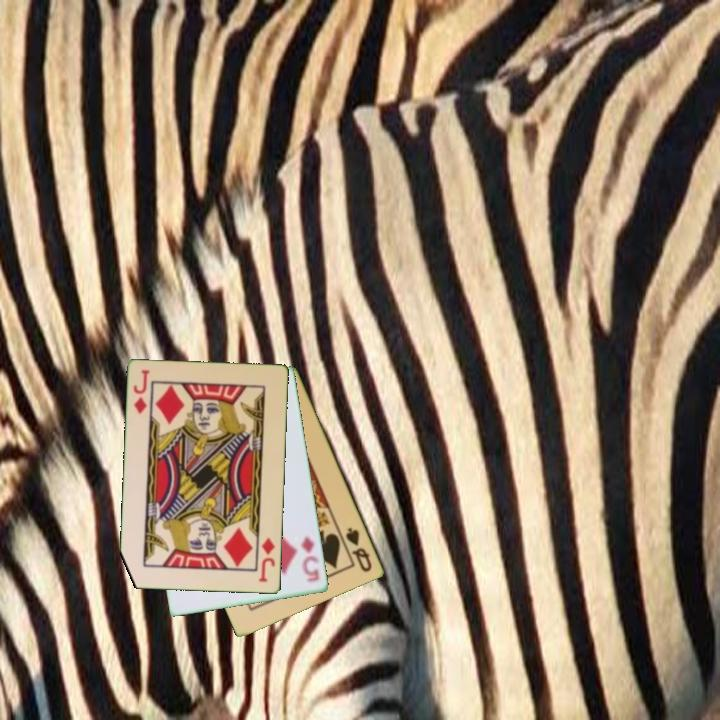5d: (297, 533, 322, 585)
Jd: (130, 366, 153, 417), (256, 535, 278, 585)
Qs: (342, 524, 375, 575)
